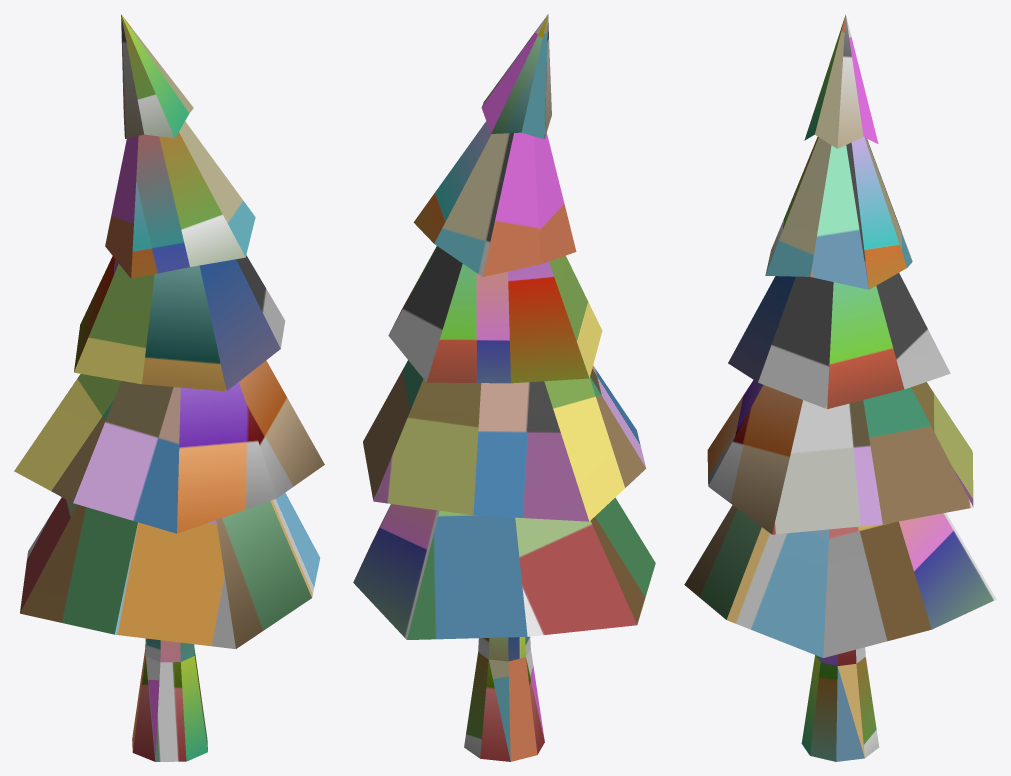
File: tree_a.glb
3 views of the same model, side by side, from view 1: azimuth 30°, elevation 25°; view 2: azimuth 150°, elevation 25°; view 3: azimuth 270°, elevation 25° (orthographic). The views are drawn at different scales.
Visible parts, largest first — view 1: Lowpoly_Pine_03_Orange_SimplePolygonPalette_0; view 2: Lowpoly_Pine_03_Orange_SimplePolygonPalette_0; view 3: Lowpoly_Pine_03_Orange_SimplePolygonPalette_0.
Part boxes in pixels (box(x1,y1,x2,y2)): Lowpoly_Pine_03_Orange_SimplePolygonPalette_0: box(14, 14, 324, 761); Lowpoly_Pine_03_Orange_SimplePolygonPalette_0: box(353, 14, 655, 761); Lowpoly_Pine_03_Orange_SimplePolygonPalette_0: box(684, 14, 996, 761).
Bounding box in the file's own units: 1.99 × 5 × 1.99.
Materials: 1 (1 with a texture image).
